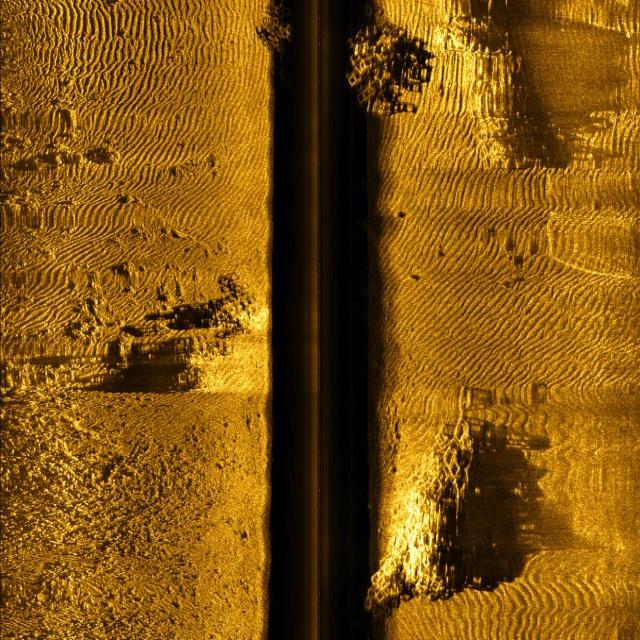artificial reef: (349, 403, 484, 622), (341, 0, 407, 125), (264, 9, 297, 66)
